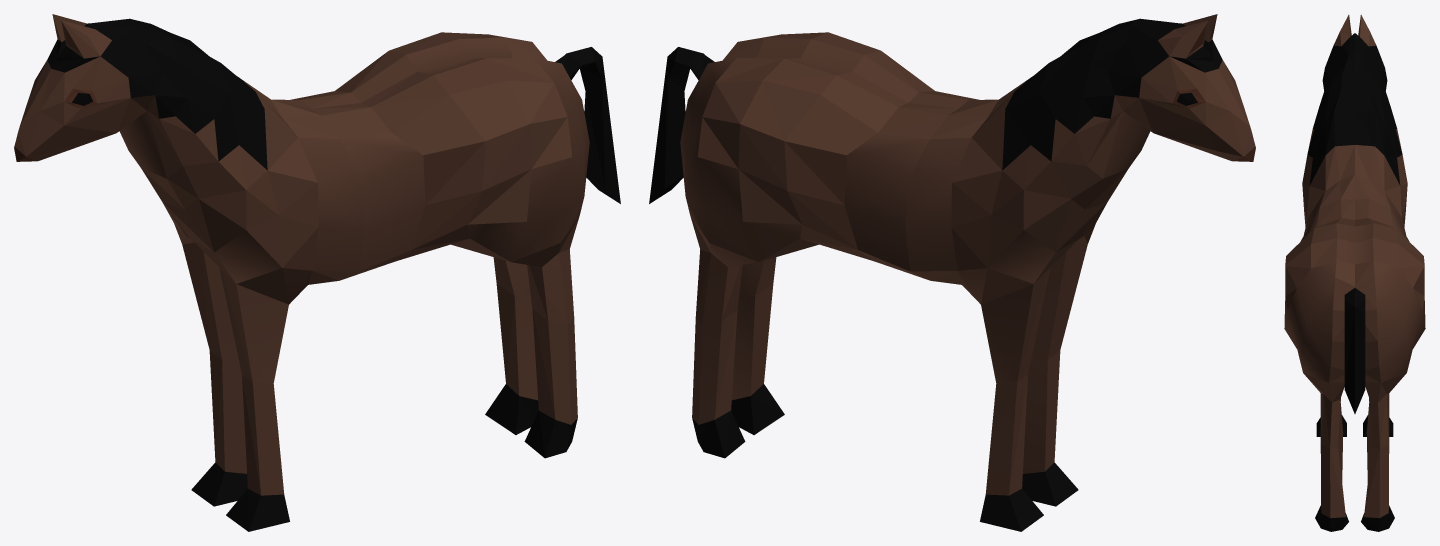
The model's file is Pferd_Boxer_jung_2.FBX.
3 views of the same model, side by side, from view 1: azimuth 30°, elevation 25°; view 2: azimuth 150°, elevation 25°; view 3: azimuth 270°, elevation 25° (orthographic). The views are drawn at different scales.
Parts seen in each view (by area): view 1: Body; view 2: Body; view 3: Body.
Part boxes in pixels (bbox=[...]): Body: bbox=[14, 14, 620, 531]; Body: bbox=[649, 14, 1255, 531]; Body: bbox=[1284, 14, 1425, 531].
Size of the model in its own units: 73.74 by 22.25 by 62.11.
